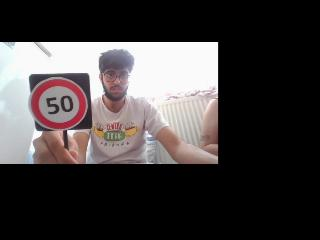Speedlimit_50: (30, 76, 91, 130)
